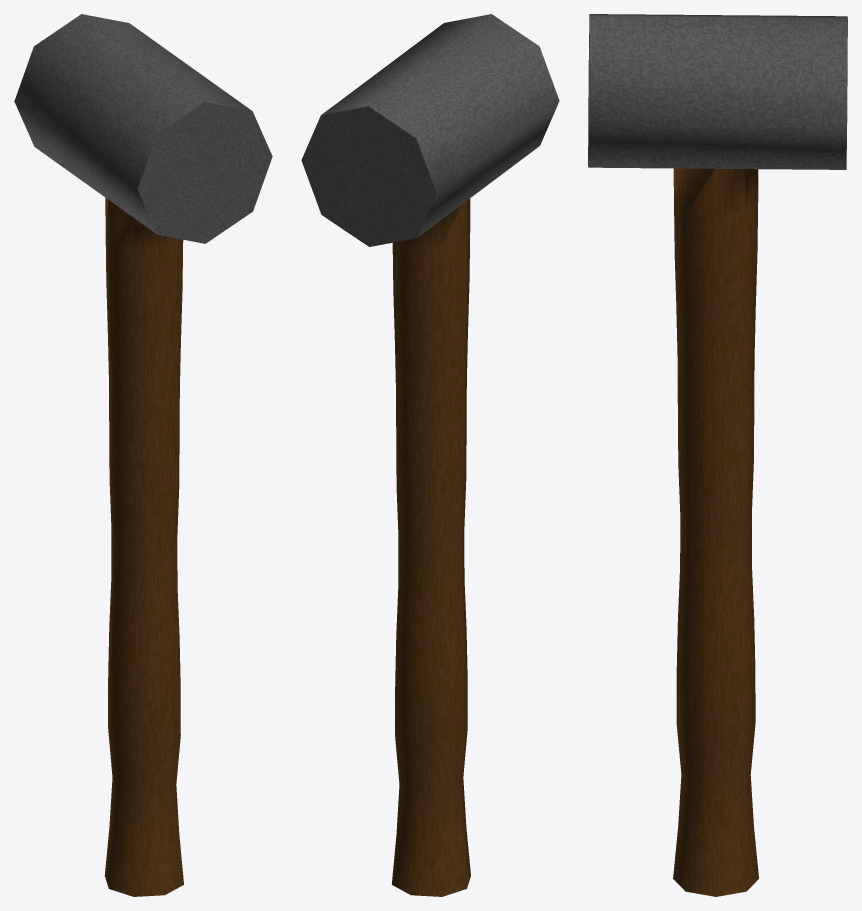
Rendered from crowbar_model.gltf.
The picture shows the model from 3 angles, left to right: view 1: azimuth 30°, elevation 25°; view 2: azimuth 150°, elevation 25°; view 3: azimuth 270°, elevation 25°; orthographic projection. The views are drawn at different scales.
Visible parts, largest first — view 1: model_crowbar; view 2: model_crowbar; view 3: model_crowbar.
Part boxes in pixels (bbox=[...]): model_crowbar: bbox=[14, 14, 272, 896]; model_crowbar: bbox=[301, 14, 559, 896]; model_crowbar: bbox=[588, 14, 847, 896].
Size of the model in its own units: 0.19 by 1.1 by 0.3018.
Materials: 2 (2 with a texture image).
